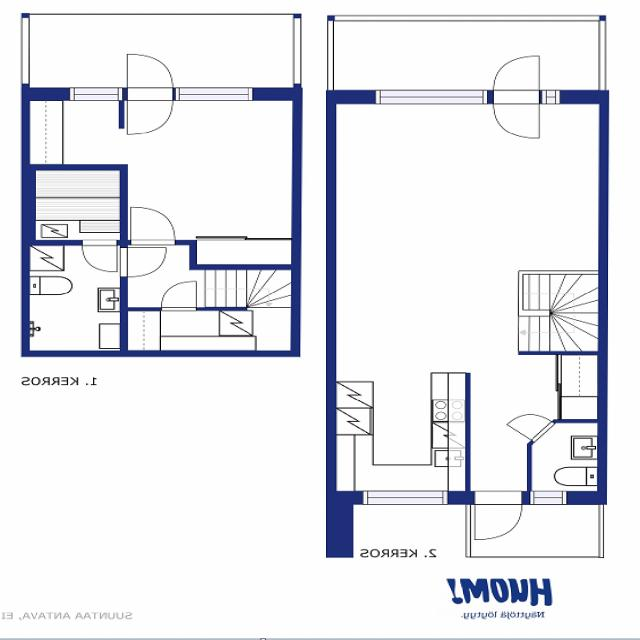door: (474, 491, 522, 540), (492, 54, 539, 104), (492, 89, 539, 139), (127, 53, 173, 101), (127, 88, 173, 135), (504, 407, 556, 445), (130, 207, 174, 246), (161, 278, 198, 312), (120, 249, 163, 276), (82, 240, 116, 272)
